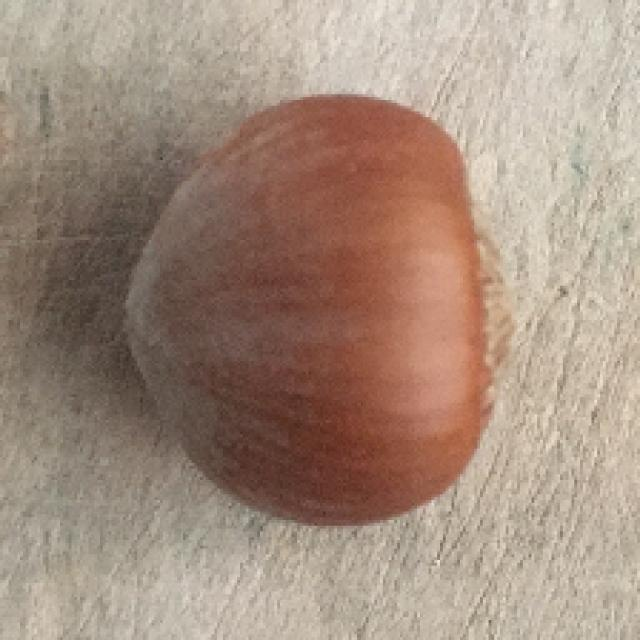QualityHazelnut: (119, 94, 527, 526)
